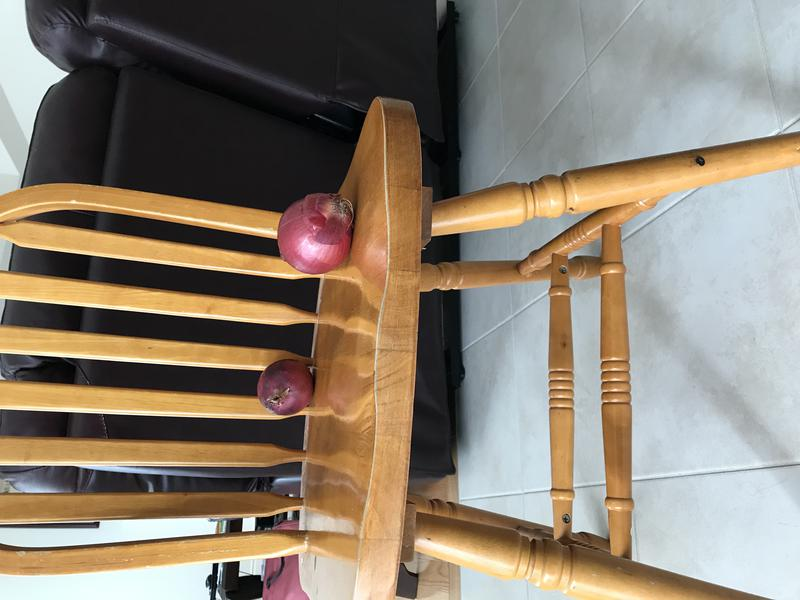purple_onion: (273, 185, 363, 278), (251, 356, 319, 418)
